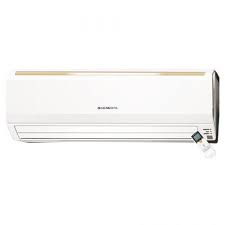ac: (7, 68, 224, 148)
